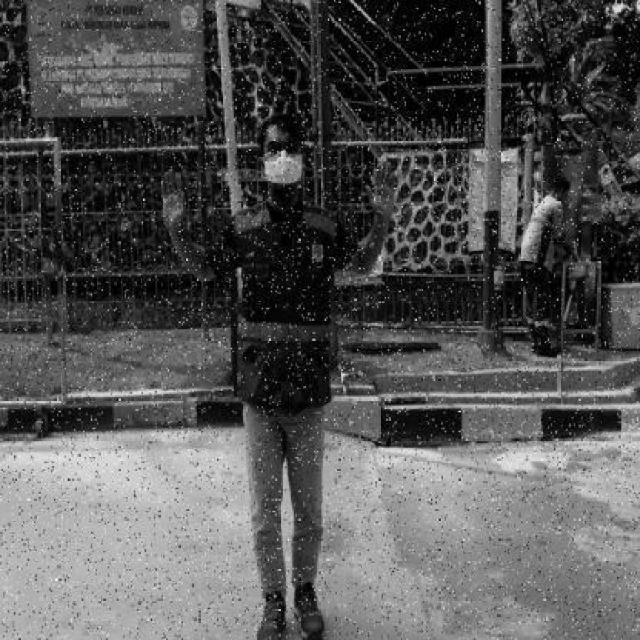Boots: (290, 580, 328, 638), (254, 586, 292, 640)
